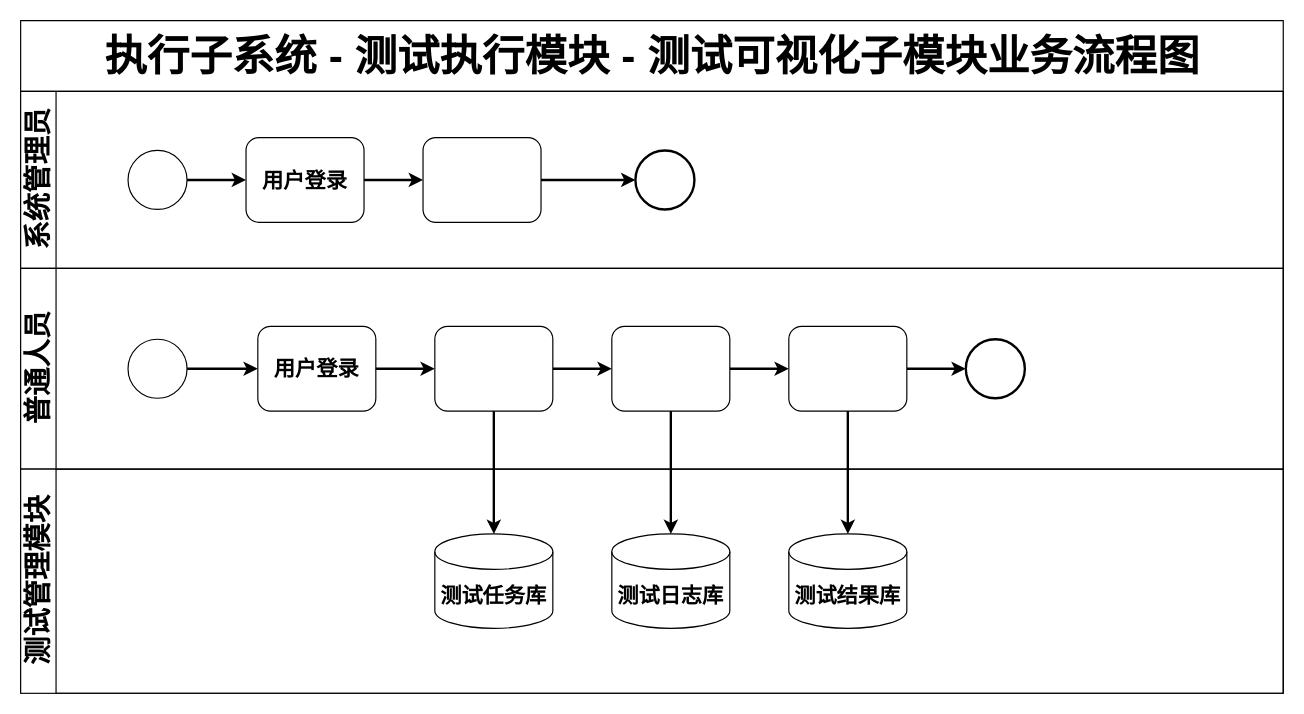
Some shapes in this 1304 by 714 pixel diagram are drawn without their labels. The centre of each missing label's shape, as x and y in pixels:
"日志审计" goes at pixel 670 368.
"测试结果 统计分析" goes at pixel 847 368.
"系统实时 监控" goes at pixel 493 368.
"系统监控" goes at pixel 481 179.
